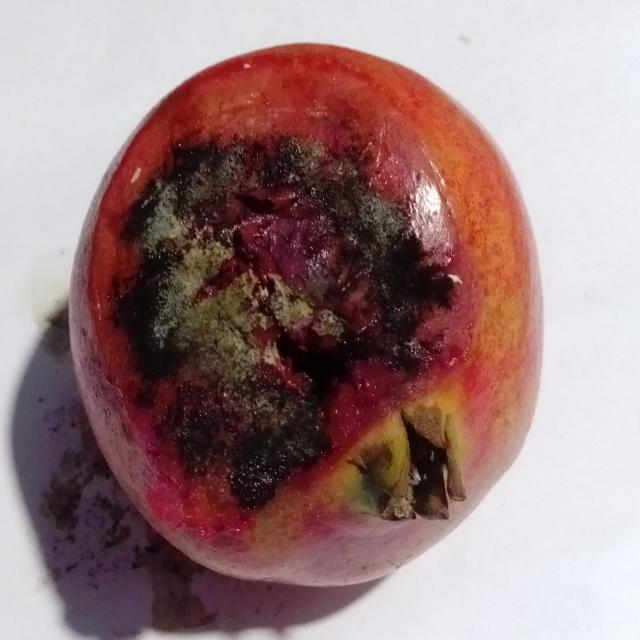Rotten: (67, 33, 550, 593)
